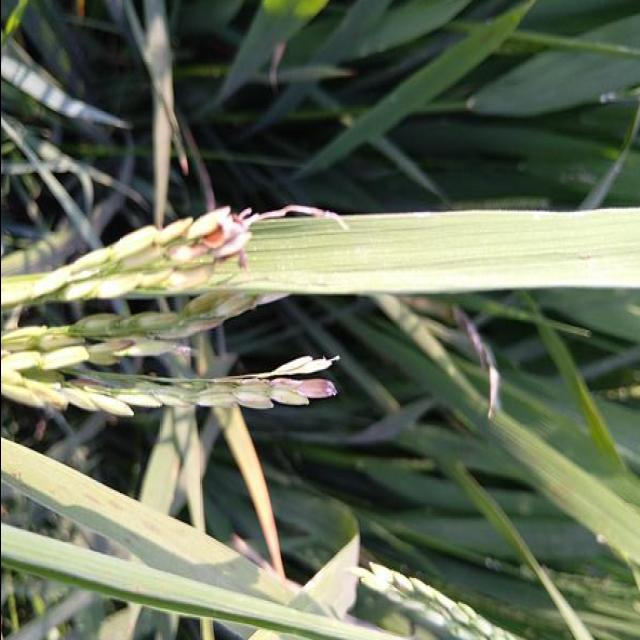Panicle Blight: (152, 206, 254, 293), (234, 357, 336, 411), (83, 336, 189, 365), (64, 378, 145, 395)
